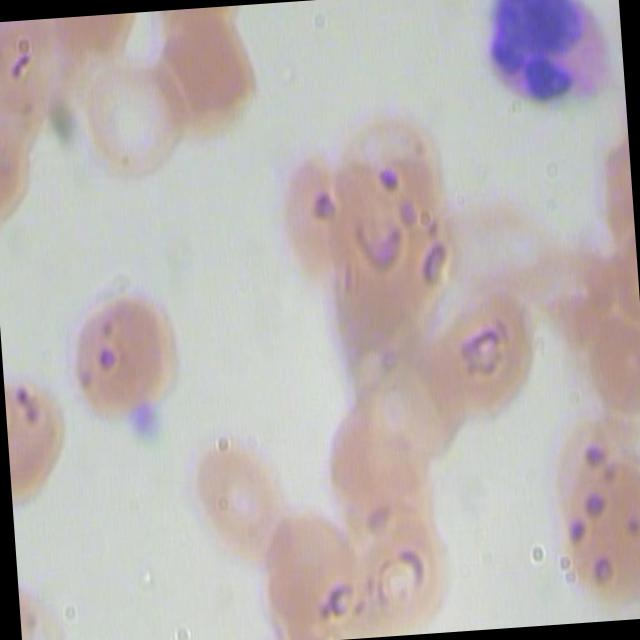Platelets: (127, 396, 170, 447)
RBC: (51, 275, 196, 428), (423, 280, 540, 422), (349, 495, 466, 637), (184, 426, 300, 568), (74, 40, 190, 182), (149, 3, 266, 142), (251, 502, 368, 640), (544, 452, 640, 614), (315, 382, 428, 508), (274, 148, 348, 282), (5, 374, 78, 508)
WBC: (481, 0, 618, 124)
